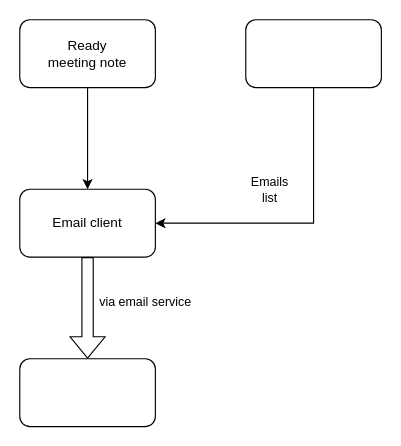
The diagram is 401 pixels wide and 446 high, and some of its shapes have lost their labels. Here are the shapes that lost their labels. From the top down, the centre of each, then its label:
(313,53): User
(87,392): Other, provided pariticipants
